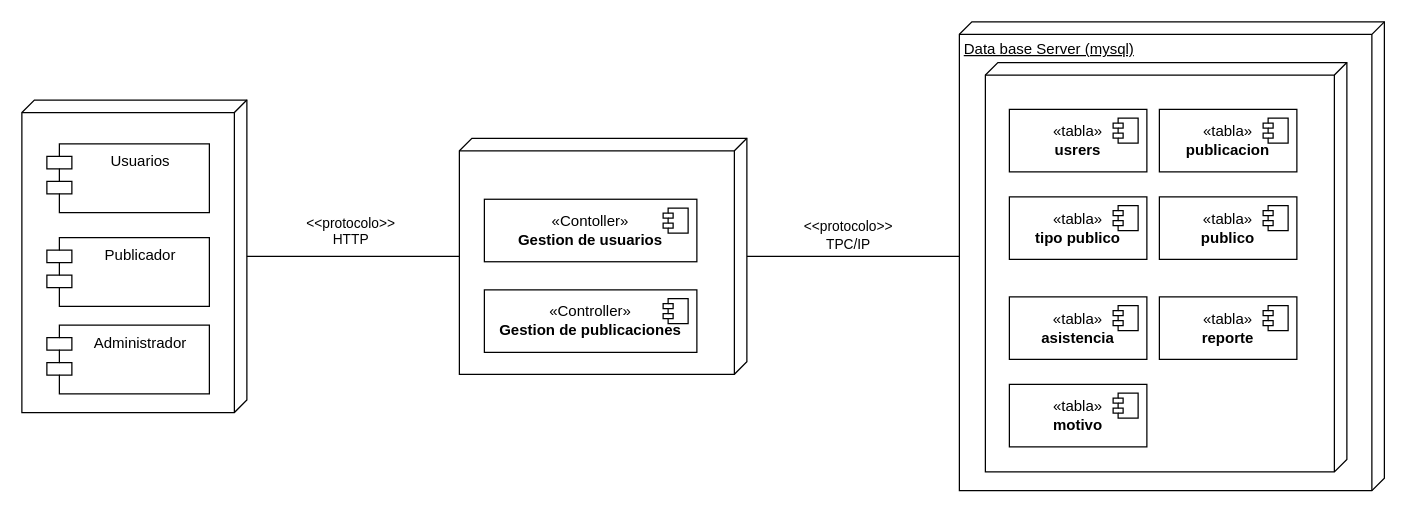
Some shapes in this 1406 by 513 pixel diagram are drawn without their labels. The box of each missing label's shape, as (x1, y1, x2, y2) in pixels:
app server: (458, 137, 747, 374)
Data Base: publicaciones: (984, 61, 1347, 472)
Web App: (21, 99, 247, 412)
